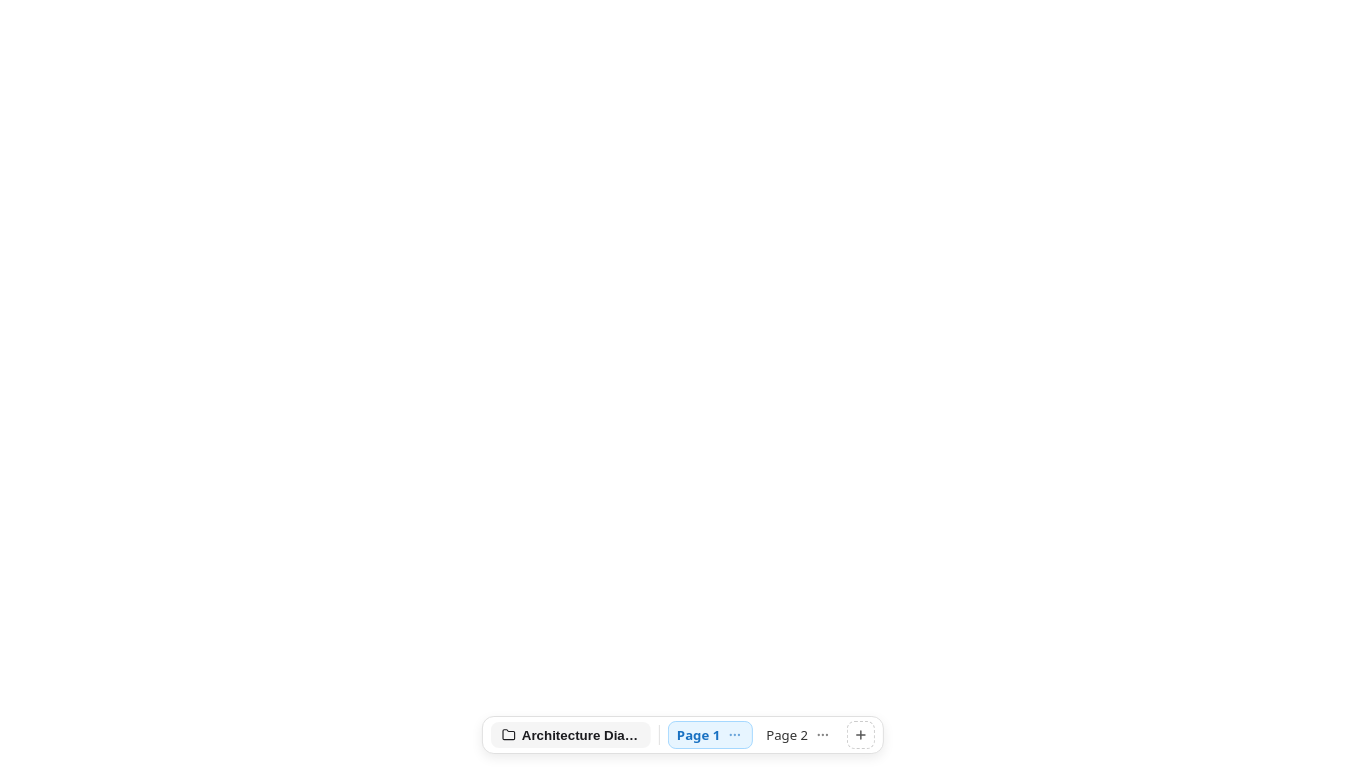
Test: MultiPage UI Components › should close delete modal without deleting when clicking cancel
Click the button titled "Page options" next to "Page 1" at (735, 735), box [726,726,744,744]
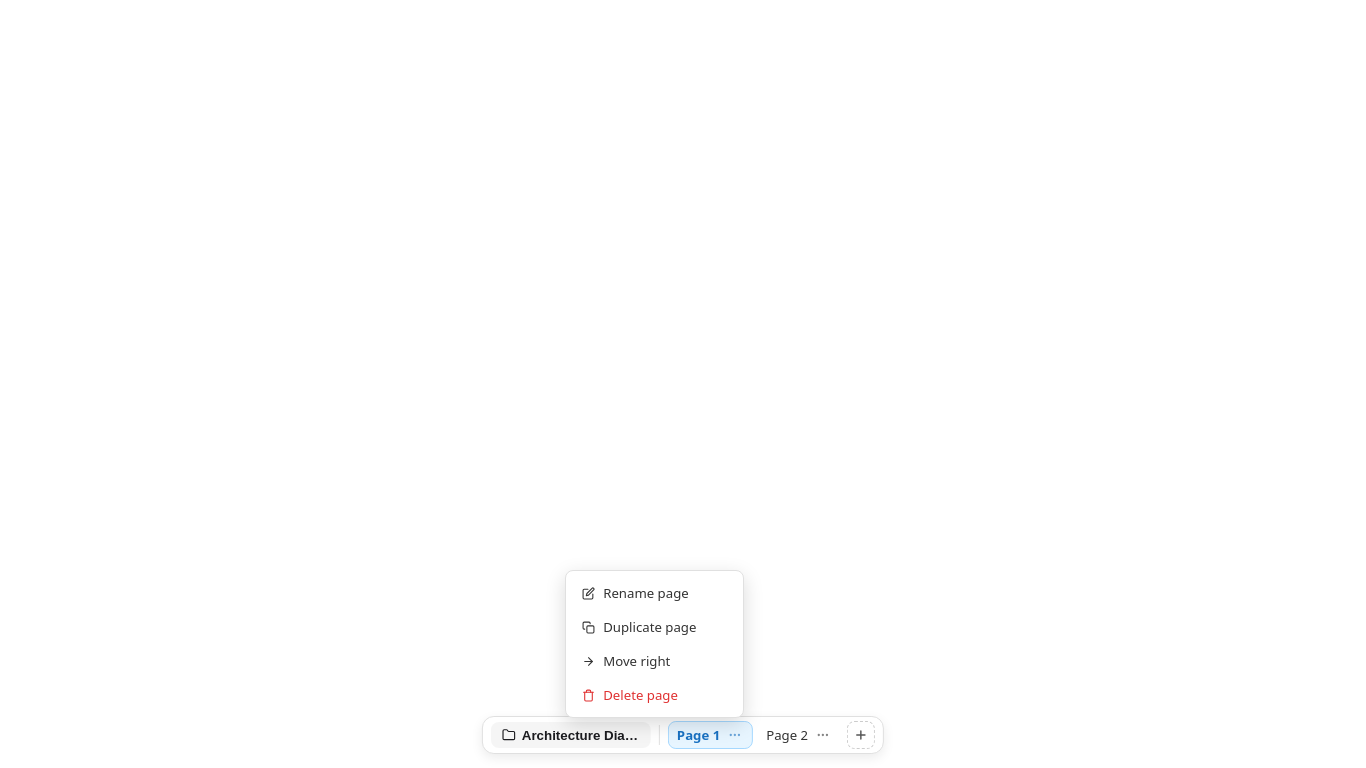
Click the button "Delete page" at (655, 695), box [572,679,737,711]
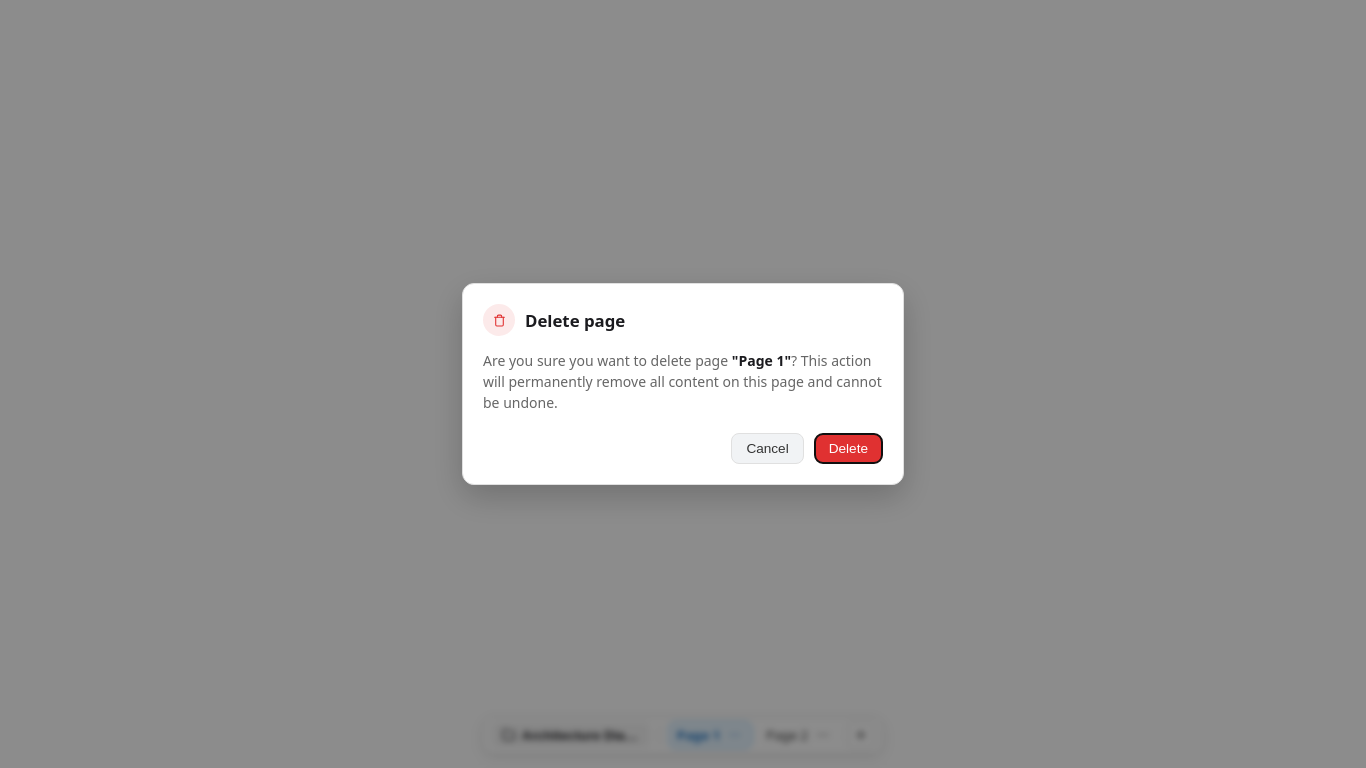
Expected: the heading "Delete page" is shown, [525,308,625,332]
Click the button "Cancel" at (768, 448), box [731,433,804,464]
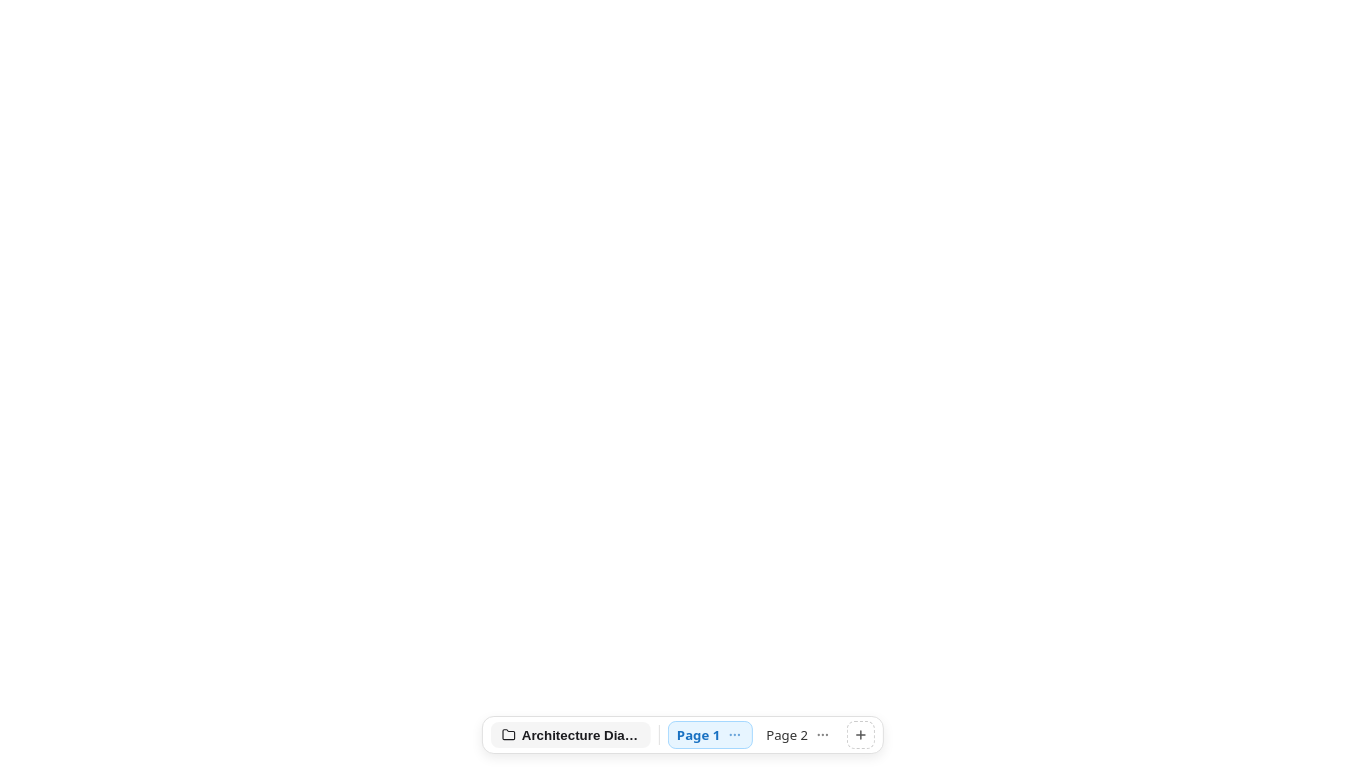
Expected: the heading "Delete page" is gone
